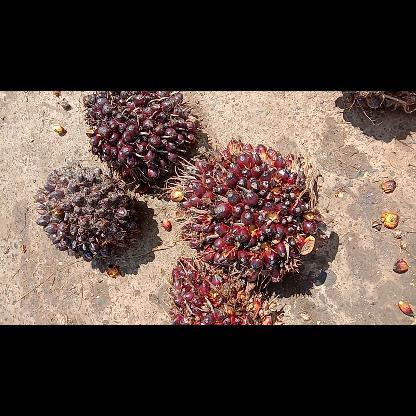Kurang masak: (163, 137, 333, 287), (84, 91, 200, 193), (34, 162, 140, 262), (164, 254, 280, 324)
